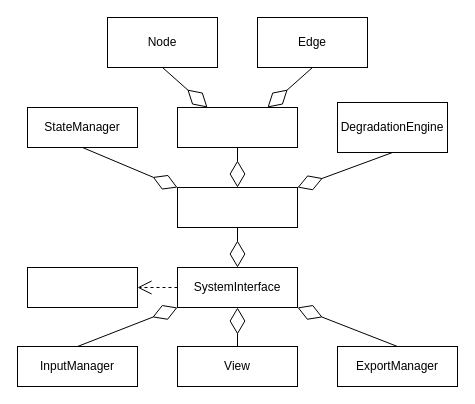
Image size: 475x404. Some labels were removed from this diagram. The shapes that lost their labels are listed below. From the top down, each one's centre as x and y in pixels, then its label:
At [237,127]: "Network".
At [237,207]: "NetworkManager".
At [82,287]: "LogManager".
